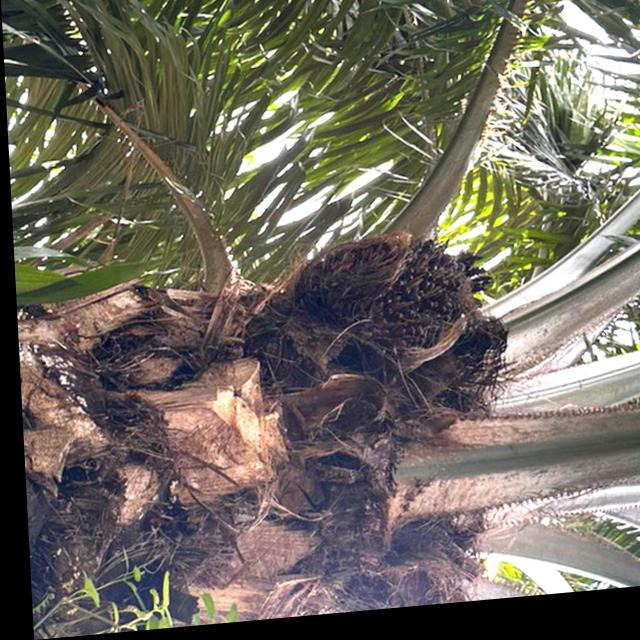unripe: (279, 227, 477, 380)
